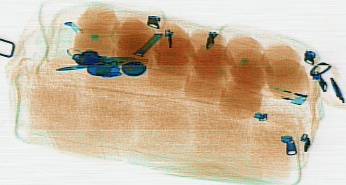lighter: (251, 81, 308, 105)
